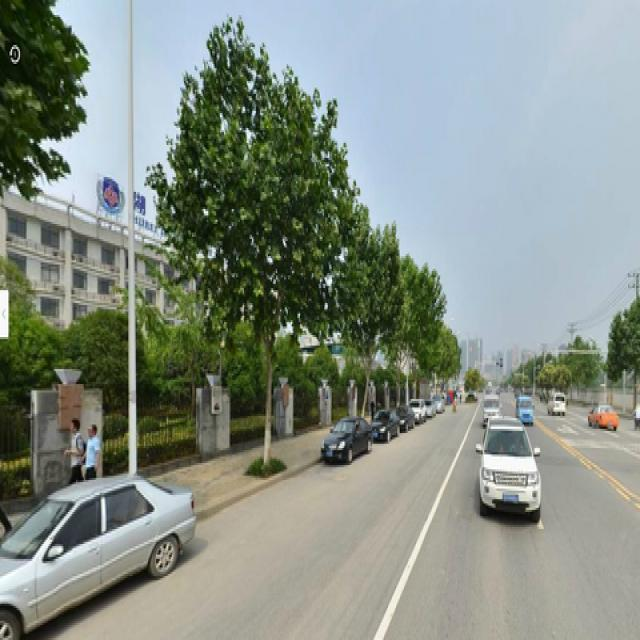meta: (155, 23, 344, 463)
